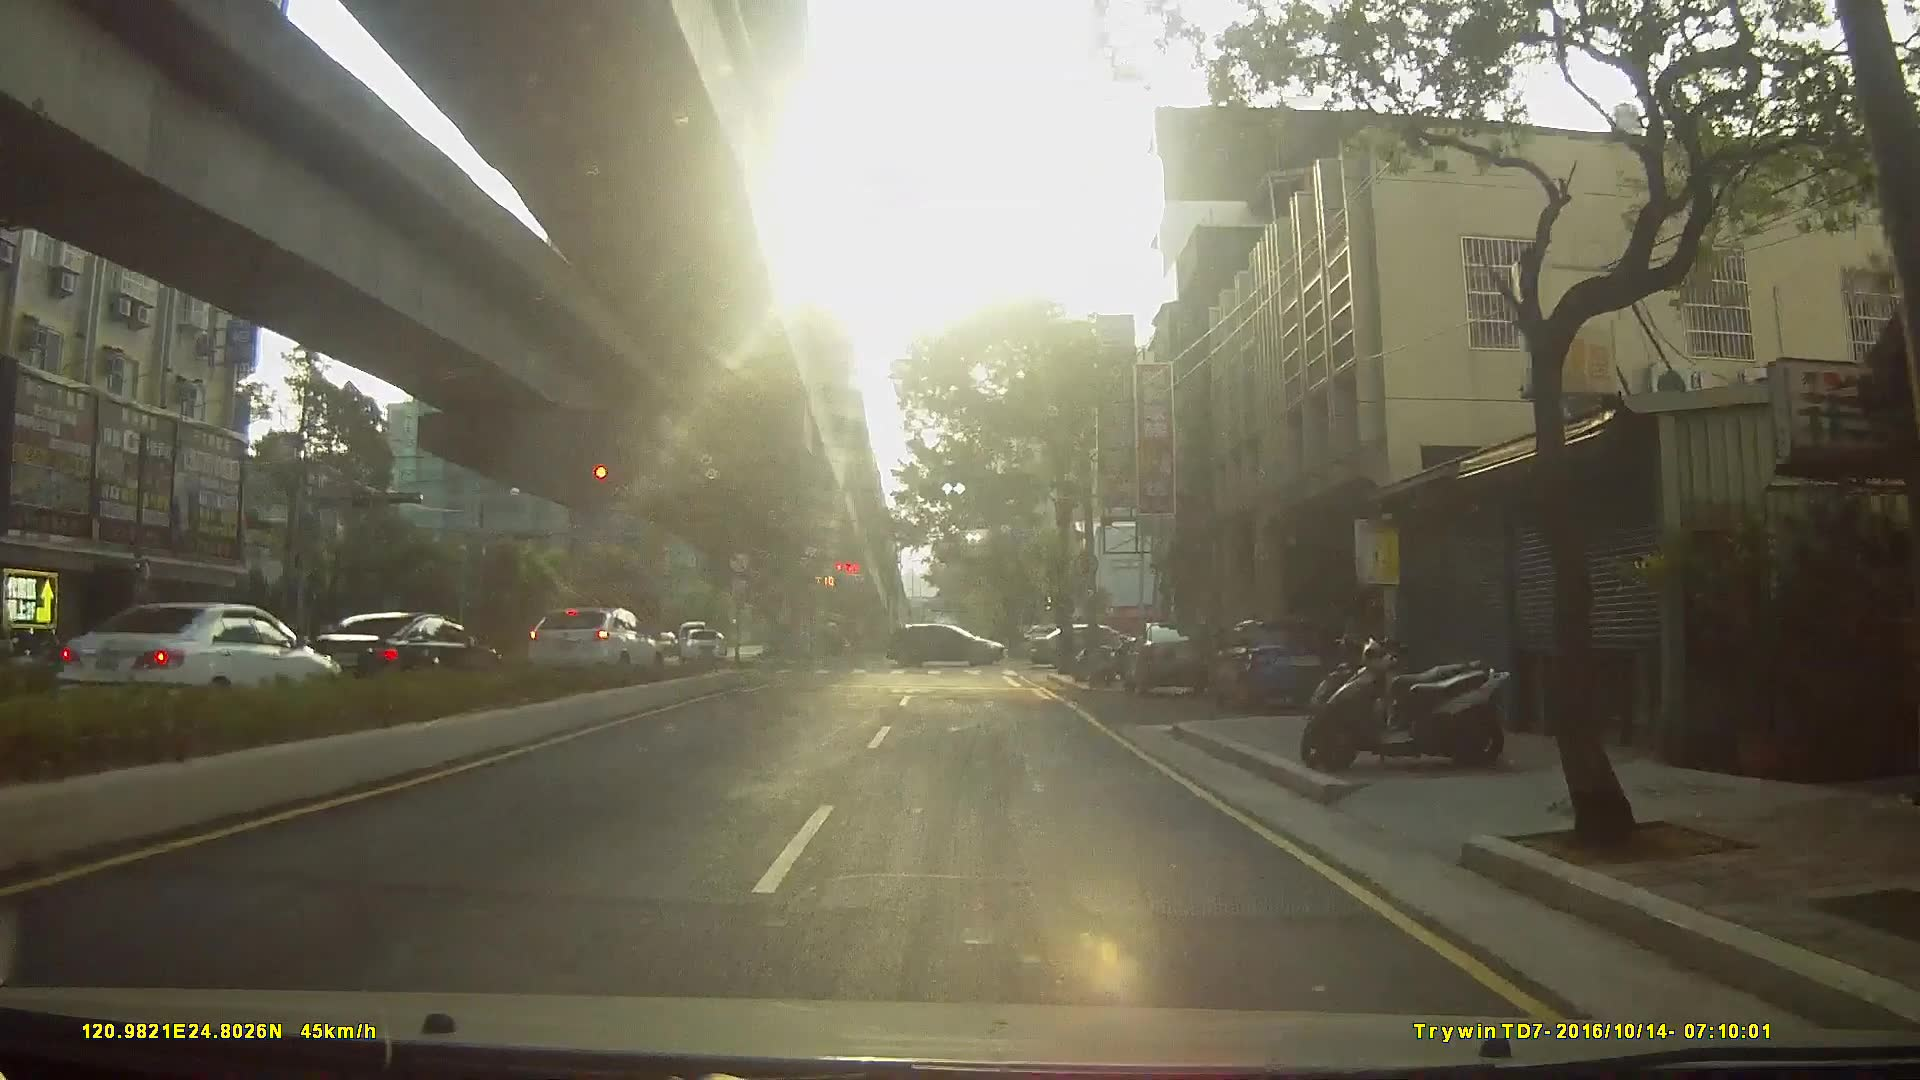vehicle: (62, 599, 343, 708), (301, 607, 502, 692), (1215, 611, 1353, 713), (520, 603, 661, 675), (1121, 613, 1222, 690), (889, 618, 1007, 663), (680, 622, 725, 661)
